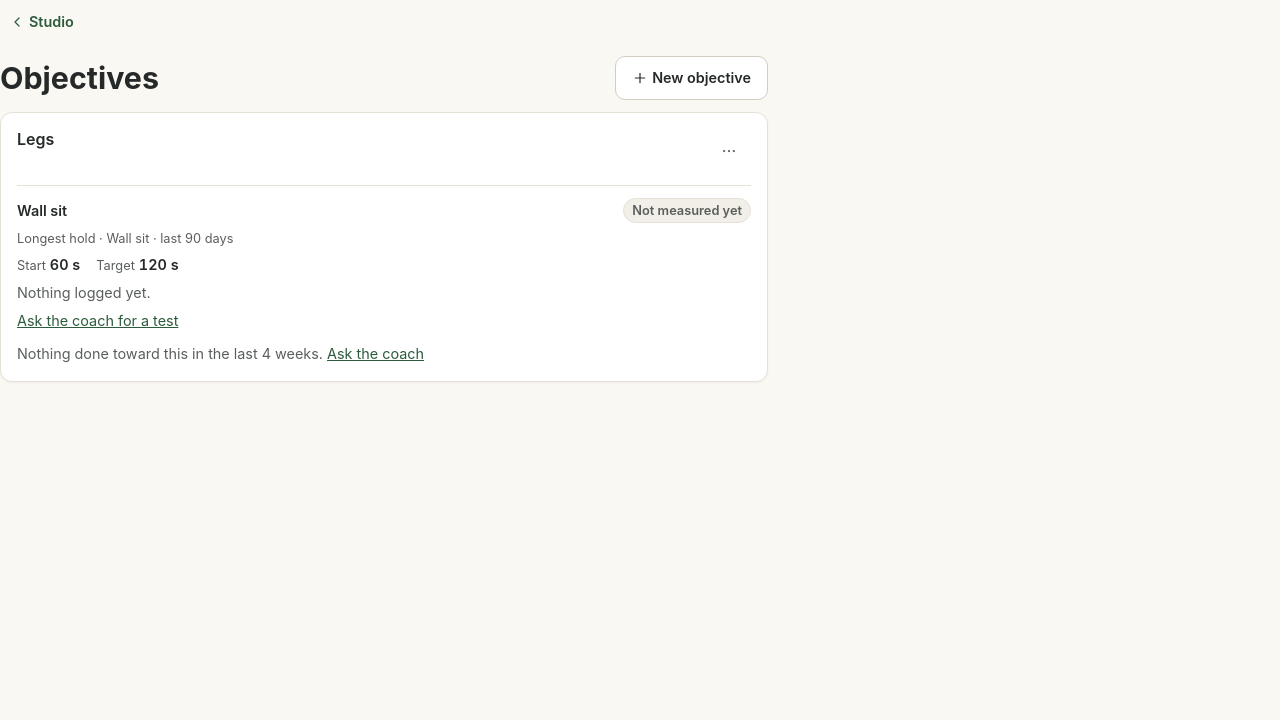
the coach switch › a measure not measured yet: 'Ask the coach for a test' opens the coach's sheet on the board, about the objective, the request in it (fix wave 3B, B-I11; coach e
Expected: the element with class "obj-card" shows "Not measured yet", [632,203,742,218]
Click the button "Ask the coach for a test" at (98, 320), box [17,310,178,331]
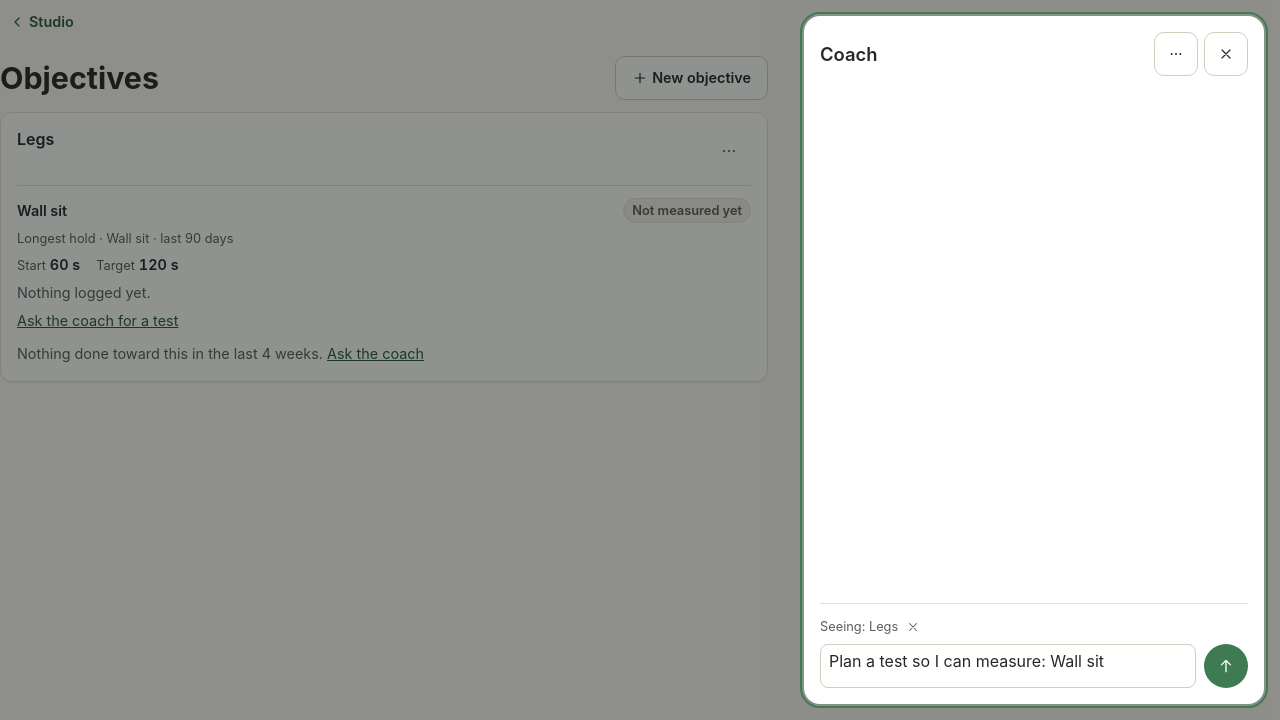
Now the text box holds "Plan a test so I can measure: Wall sit", box [820,644,1196,688]
Now the dialog shows "Legs", box [820,619,898,634]
